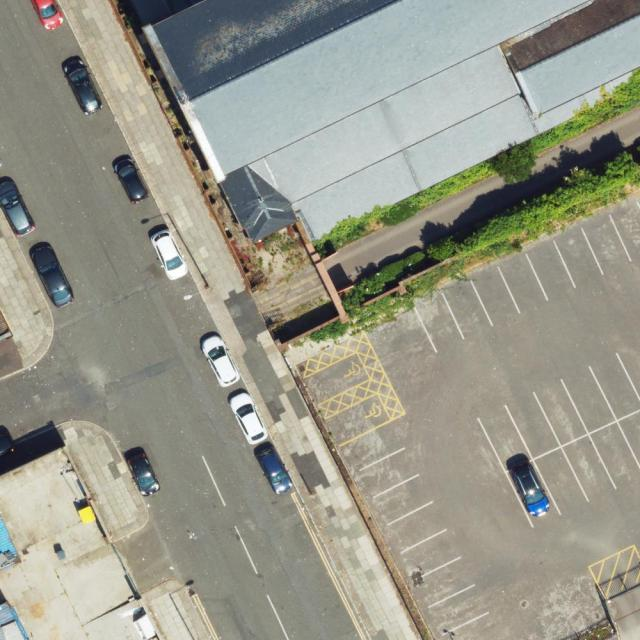roof: (141, 0, 640, 247)
